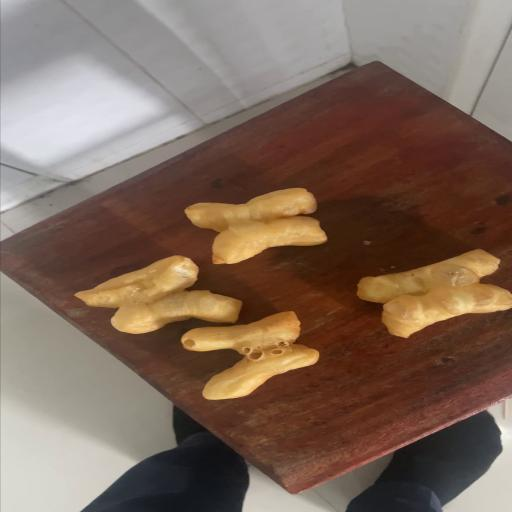street_golden_defect: (356, 250, 510, 337), (177, 312, 319, 399)
street_golden_good: (187, 188, 325, 263)
